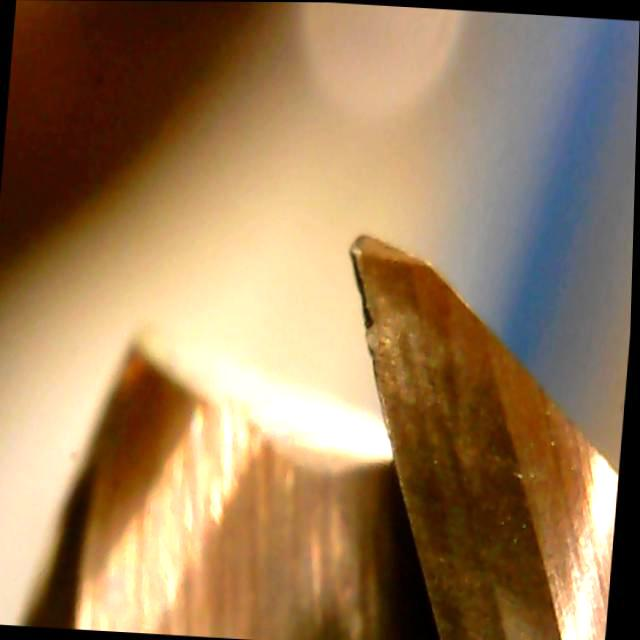Tool-wear-class-1: (314, 222, 493, 456)
